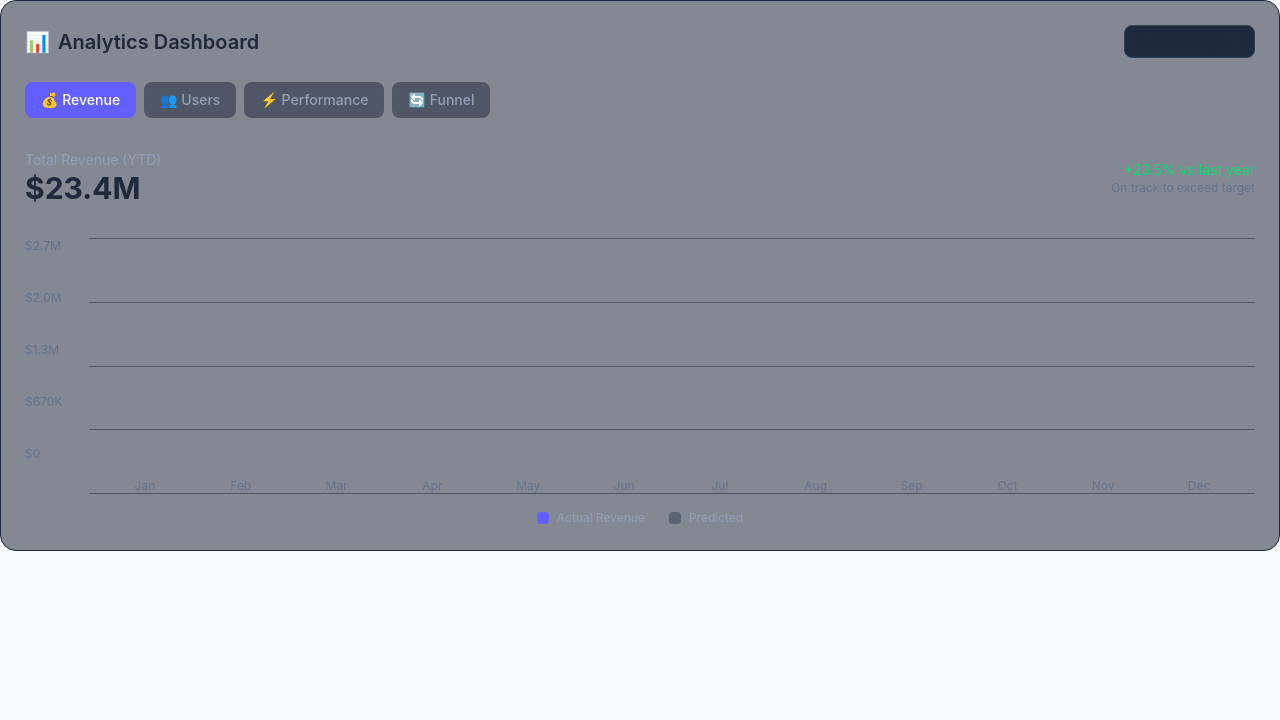
Scenario: InteractiveCharts Component › Users Chart › should switch to users chart when tab is clicked
Click the button "👥 Users" at (190, 100), box left=144, top=82, right=236, bottom=118
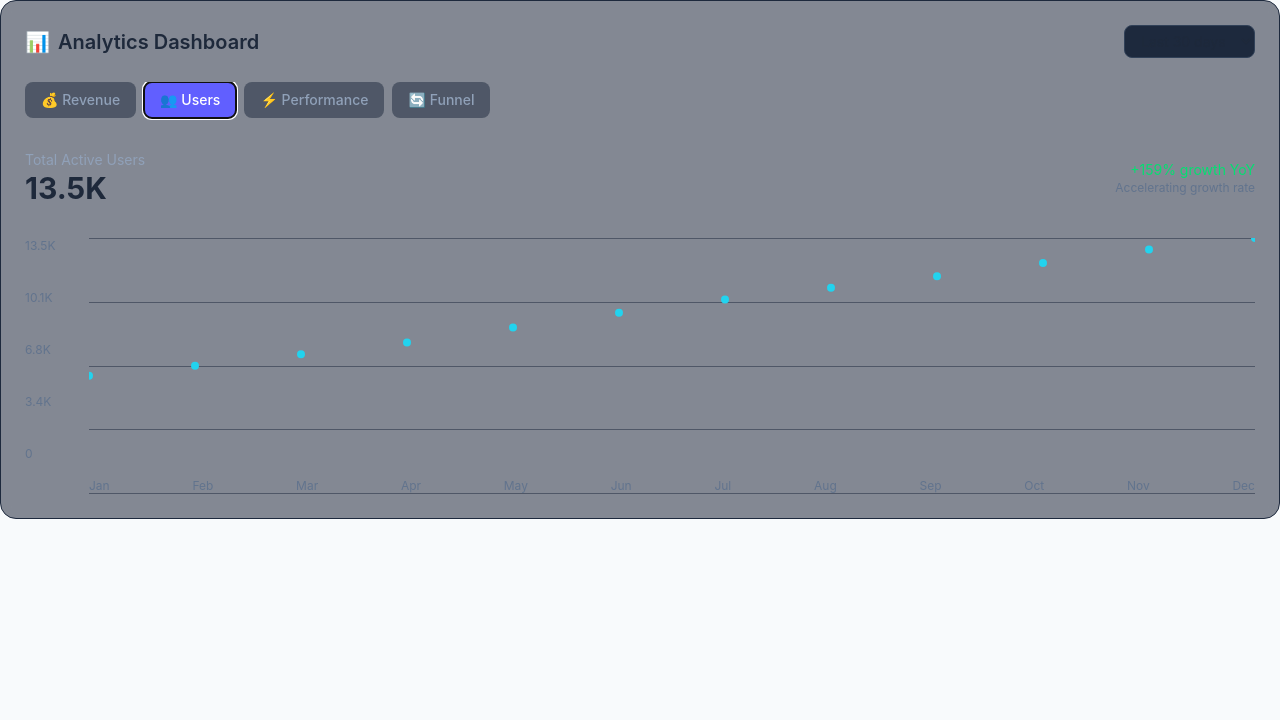
Check: the text "Total Active Users" is shown, box left=25, top=150, right=145, bottom=170
